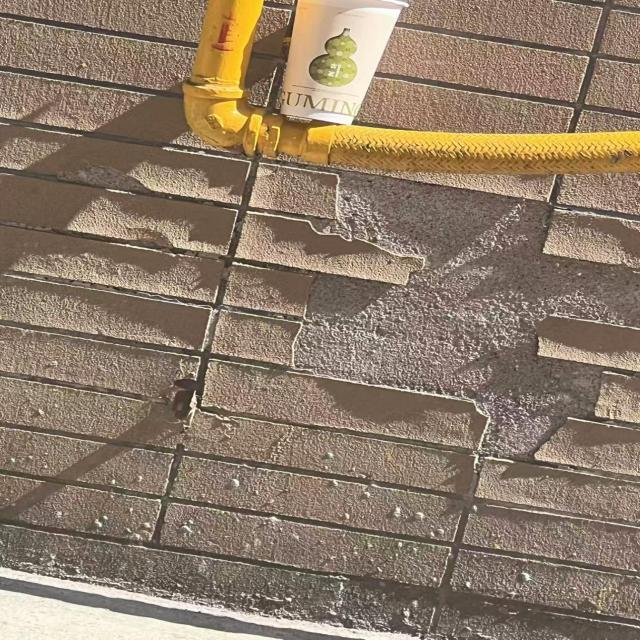spalling: (20, 133, 637, 536)
